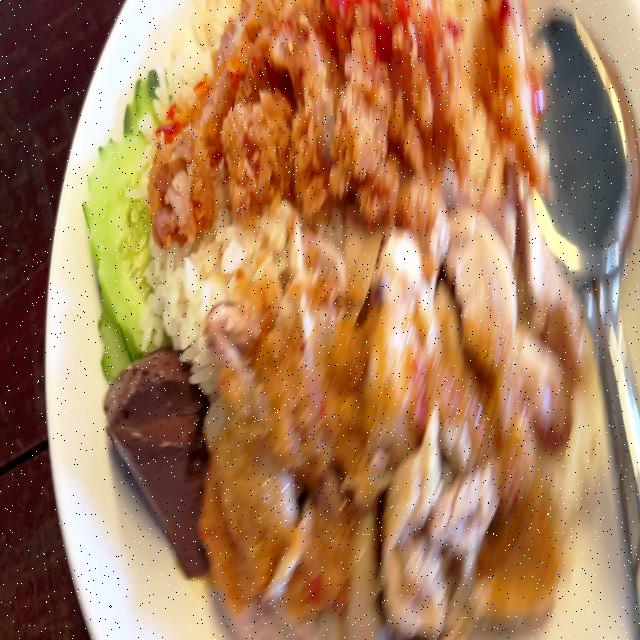boiled_chicken: (209, 238, 556, 634)
boiled_chicken_blood_jelly: (106, 350, 205, 573)
chicken_rice: (84, 0, 595, 640)
cucumber: (82, 68, 164, 370)
fried_chicken: (155, 0, 544, 230)
